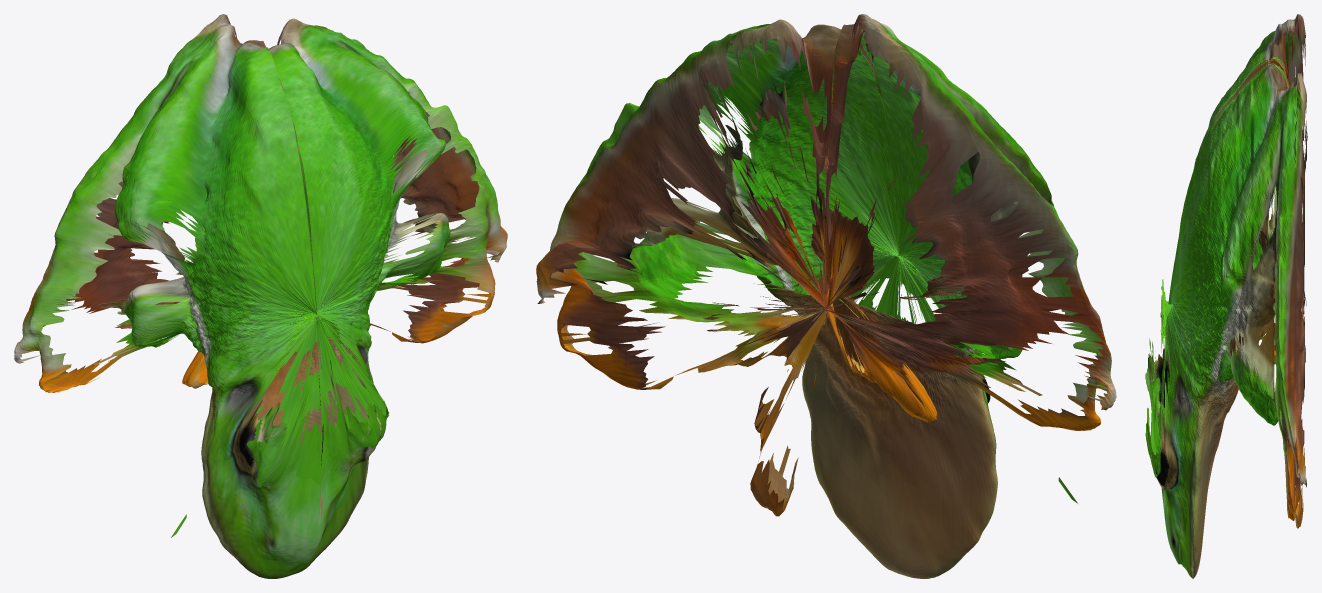
The picture shows the model from 3 angles, left to right: view 1: azimuth 30°, elevation 25°; view 2: azimuth 150°, elevation 25°; view 3: azimuth 270°, elevation 25°; orthographic projection. The views are drawn at different scales.
Visible parts, largest first — view 1: geometry_0; view 2: geometry_0; view 3: geometry_0.
Boxes of the visible parts, box(x1,y1,x2,y2) form: geometry_0: box(14, 14, 507, 578); geometry_0: box(536, 14, 1116, 578); geometry_0: box(1145, 14, 1307, 578).
Bounding box in the file's own units: 1.95 × 1.98 × 0.5284.
1 material, 1 textured.
